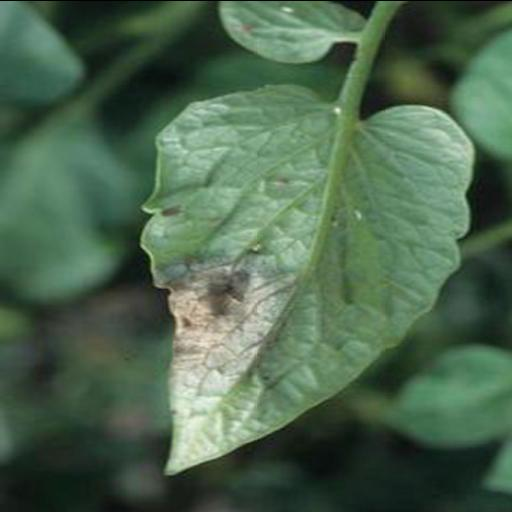disease_tomato: (134, 78, 486, 476)
